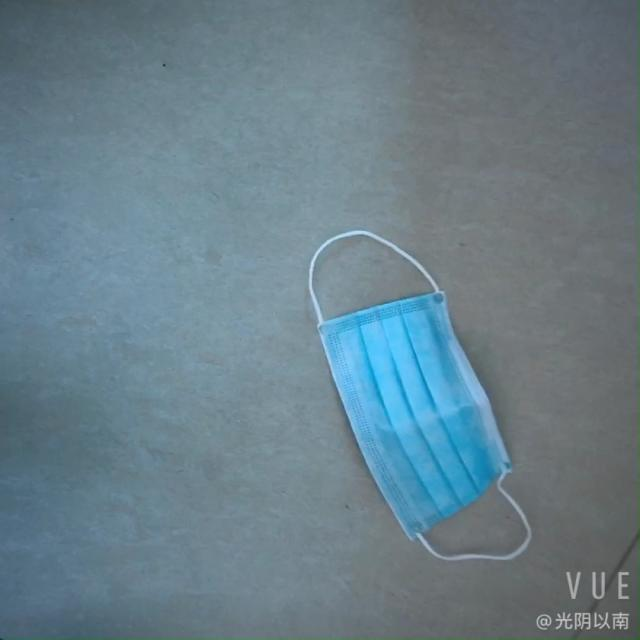face mask: (309, 292, 522, 542)
